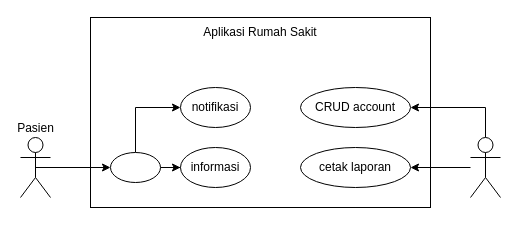
Some shapes in this 520 by 236 pixel diagram are drawn without their labels. Here are the shapes that lost their labels. From the top down, the centre of each, then its label:
the point at 135,167: daftar
the point at 485,167: Admin
